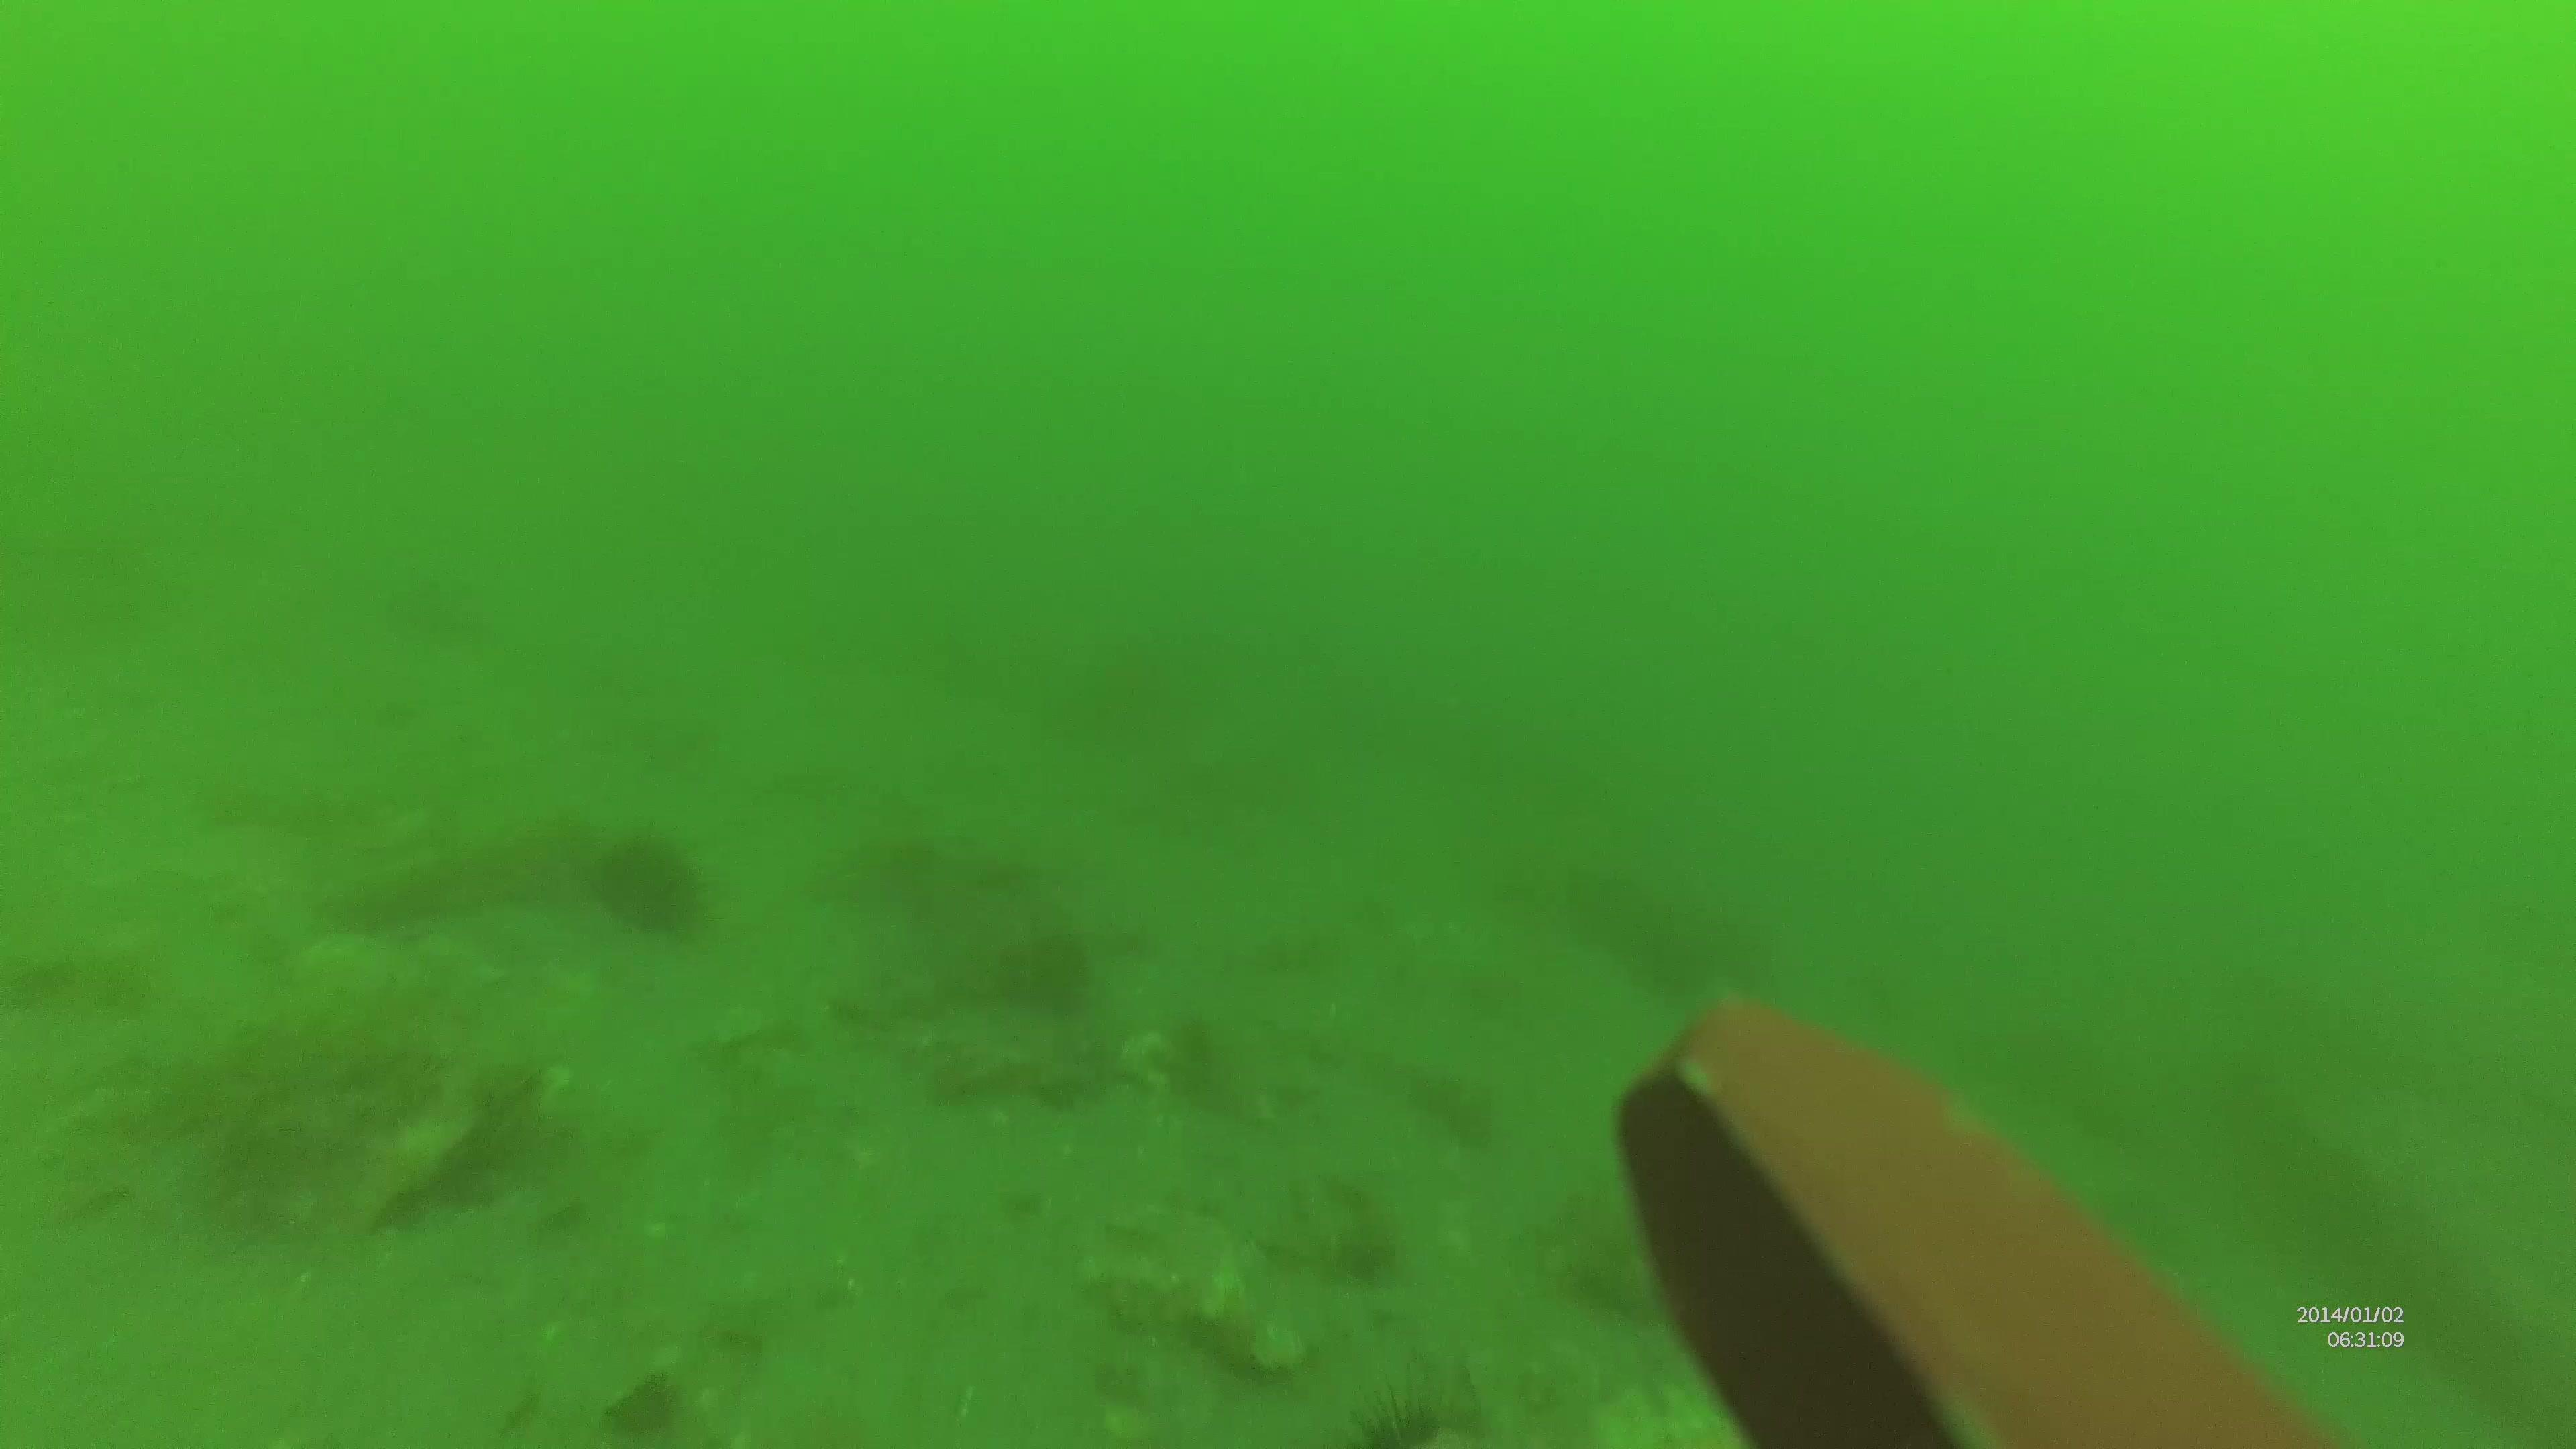echinus: (593, 816, 717, 943), (1341, 1382, 1451, 1449)
